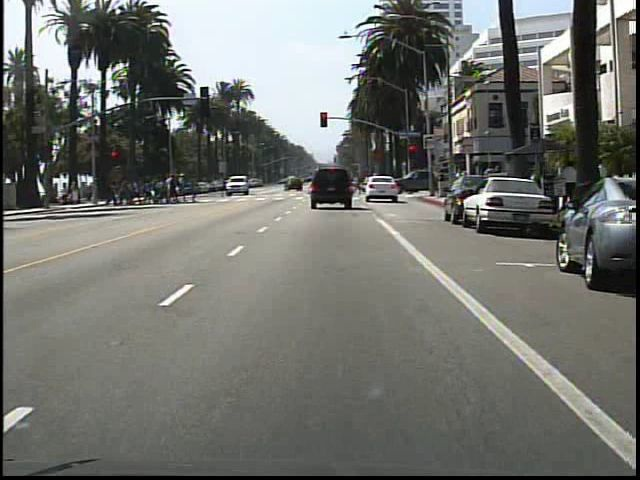person: (557, 156, 582, 213), (588, 155, 609, 212), (214, 172, 233, 201)
